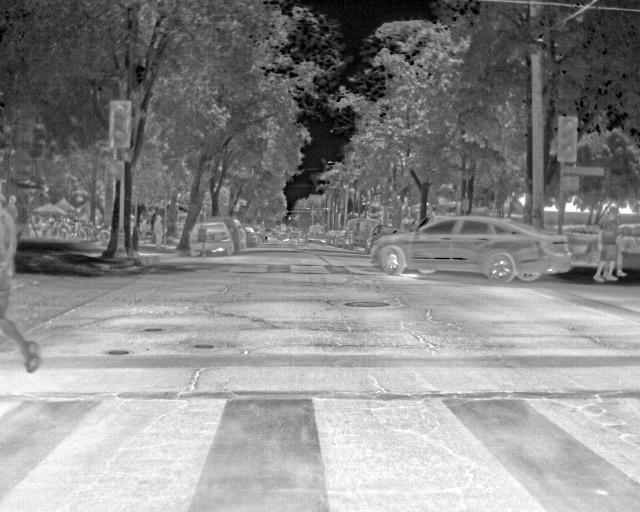bicycle: (370, 213, 574, 283), (340, 216, 380, 251), (365, 225, 404, 255), (205, 220, 232, 255), (226, 216, 248, 250), (242, 225, 257, 247)
empty: (0, 202, 39, 373), (593, 208, 623, 282)
